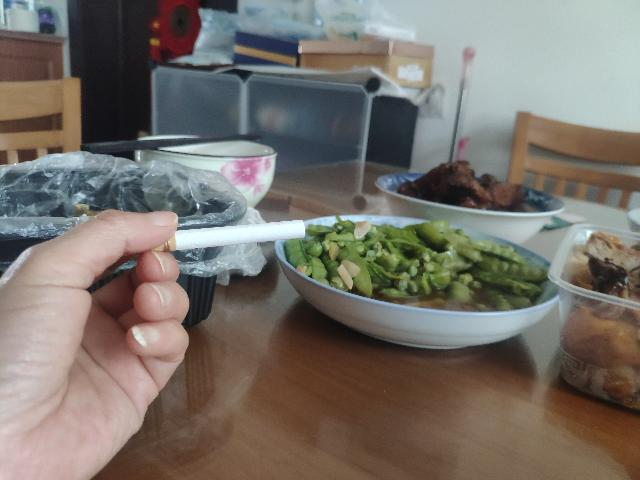Cigarette: (108, 220, 306, 260)
